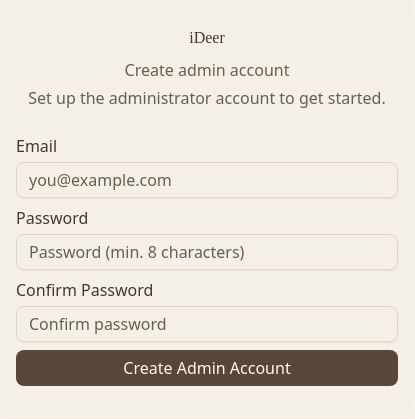
Test: SetupPage › init_admin shows error on API failure
Step 1. Type "admin@test.com" into the field labelled "Email" → {"x": 207, "y": 180}, box [16, 162, 398, 198]
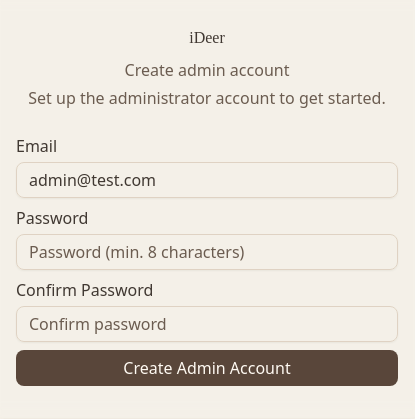
Step 2. Type "password123" into the password field labelled "Password" → {"x": 207, "y": 252}, box [16, 234, 398, 270]
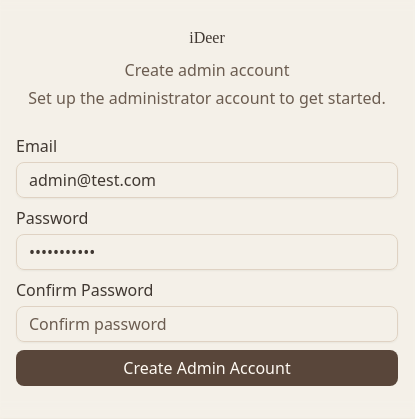
Step 3. Type "password123" into the password field labelled "Confirm Password" → {"x": 207, "y": 324}, box [16, 306, 398, 342]
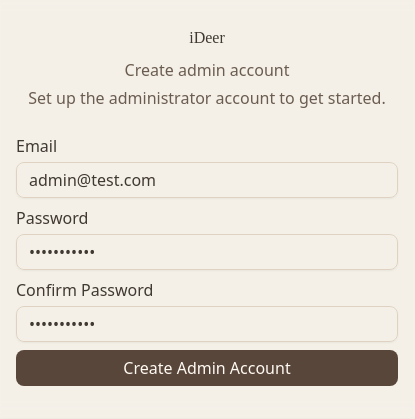
Step 4. Submit the form labelled "Email", box [16, 134, 398, 386]
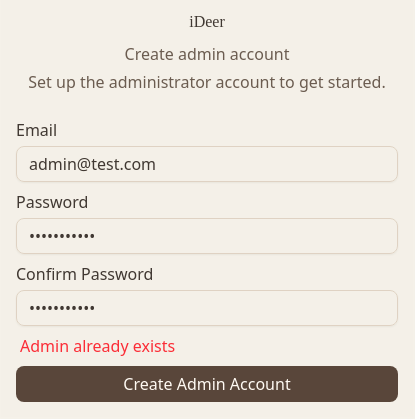
Now the text "Admin already exists" is shown, box [20, 335, 175, 357]
